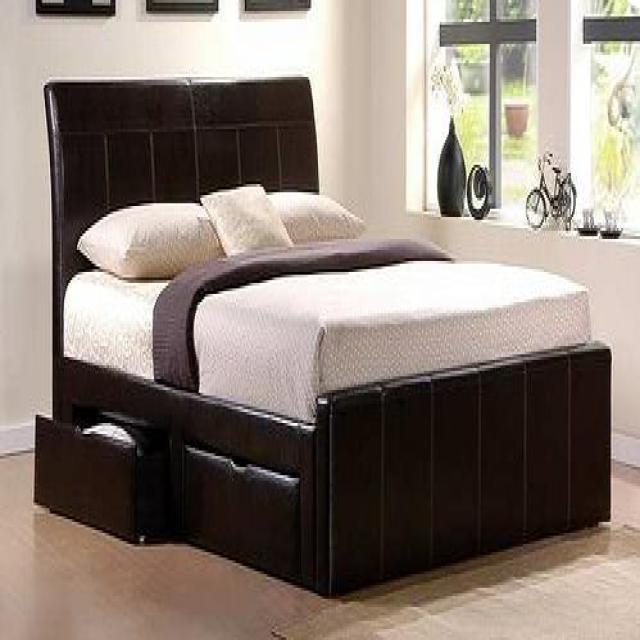bed: (33, 71, 612, 599)
